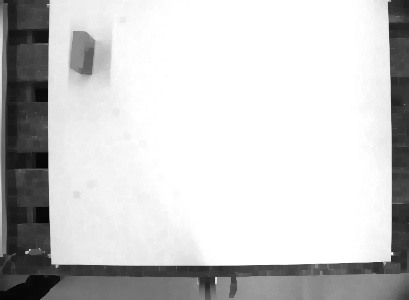b1: (67, 28, 98, 76)
